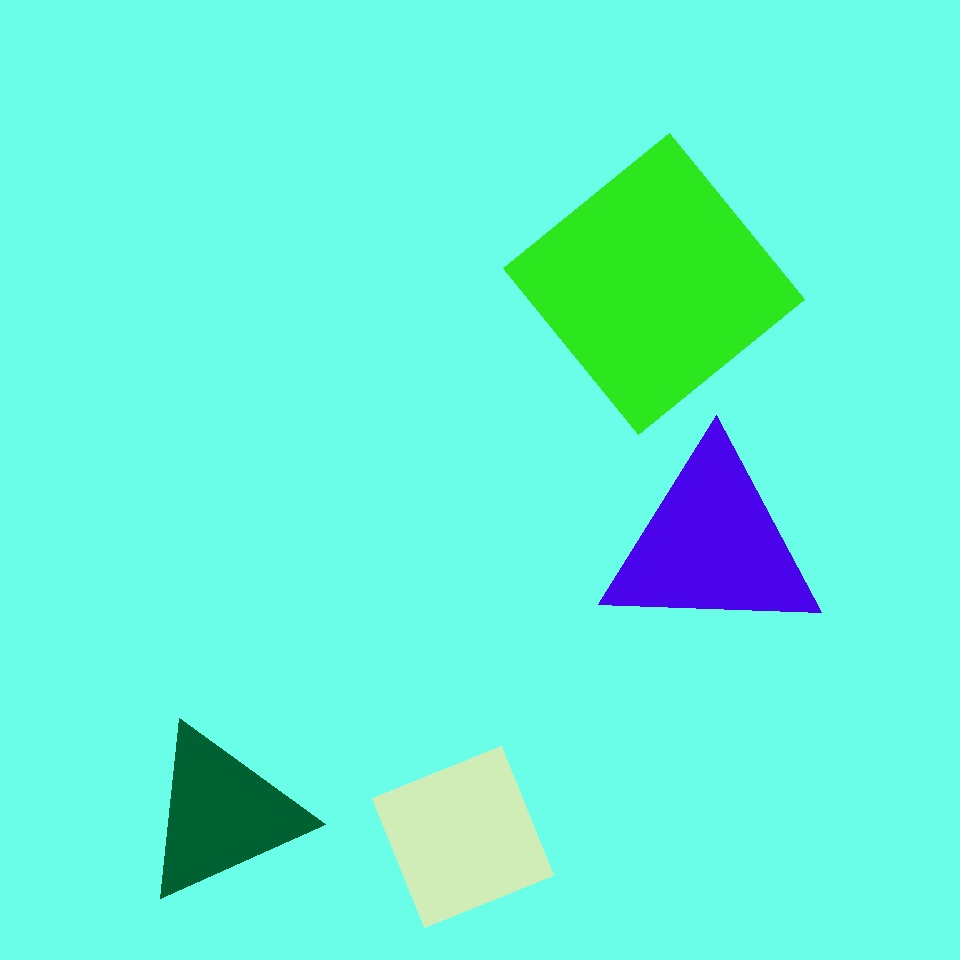circle: (441, 214, 673, 420), (120, 649, 341, 864), (342, 321, 557, 536), (600, 446, 824, 642), (140, 724, 304, 904), (257, 79, 399, 213)
square: (504, 134, 804, 434), (437, 118, 711, 393), (128, 145, 352, 370), (508, 564, 698, 754), (373, 746, 554, 927), (642, 287, 790, 435), (777, 742, 924, 890)
triangle: (608, 698, 855, 946)
